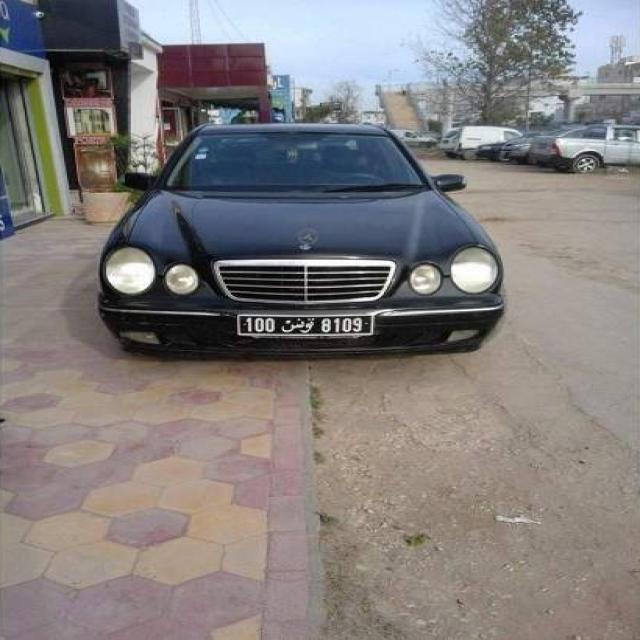licence plate: (240, 316, 370, 333)
